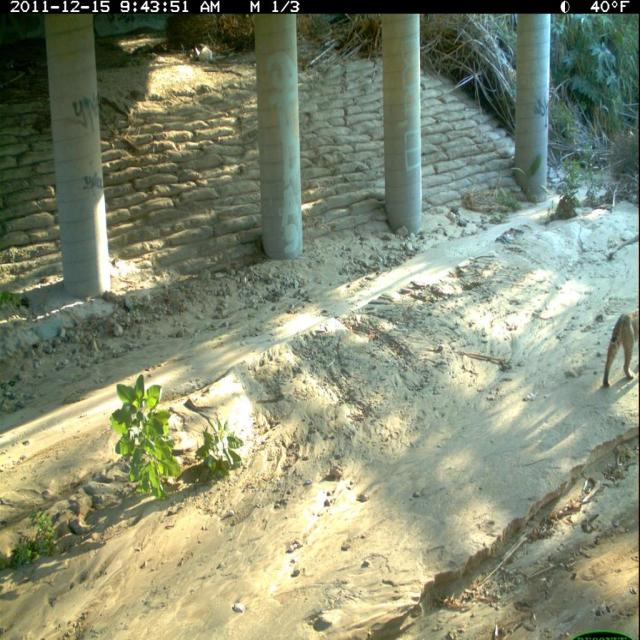bobcat: (599, 304, 640, 396)
